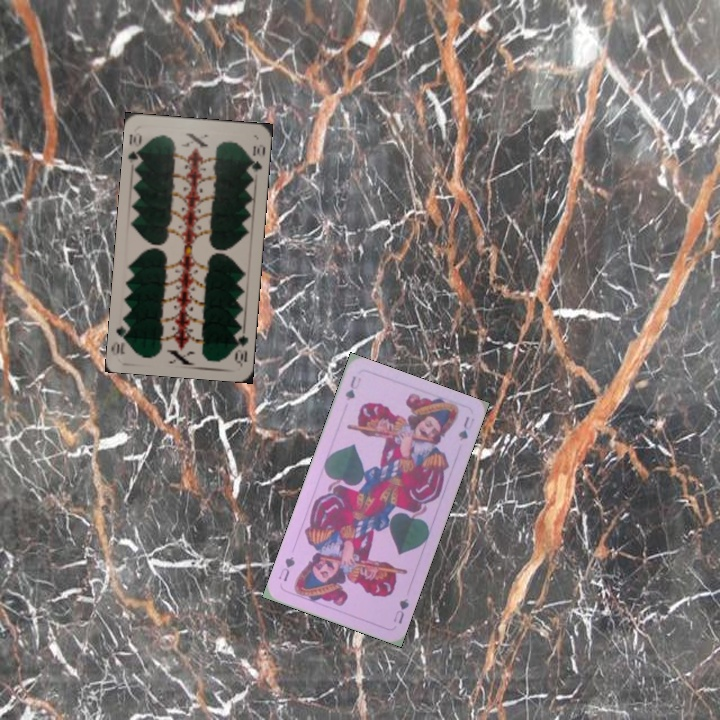G10: (231, 325, 251, 366), (125, 130, 145, 169)
GU: (389, 594, 412, 626), (341, 371, 364, 403)
